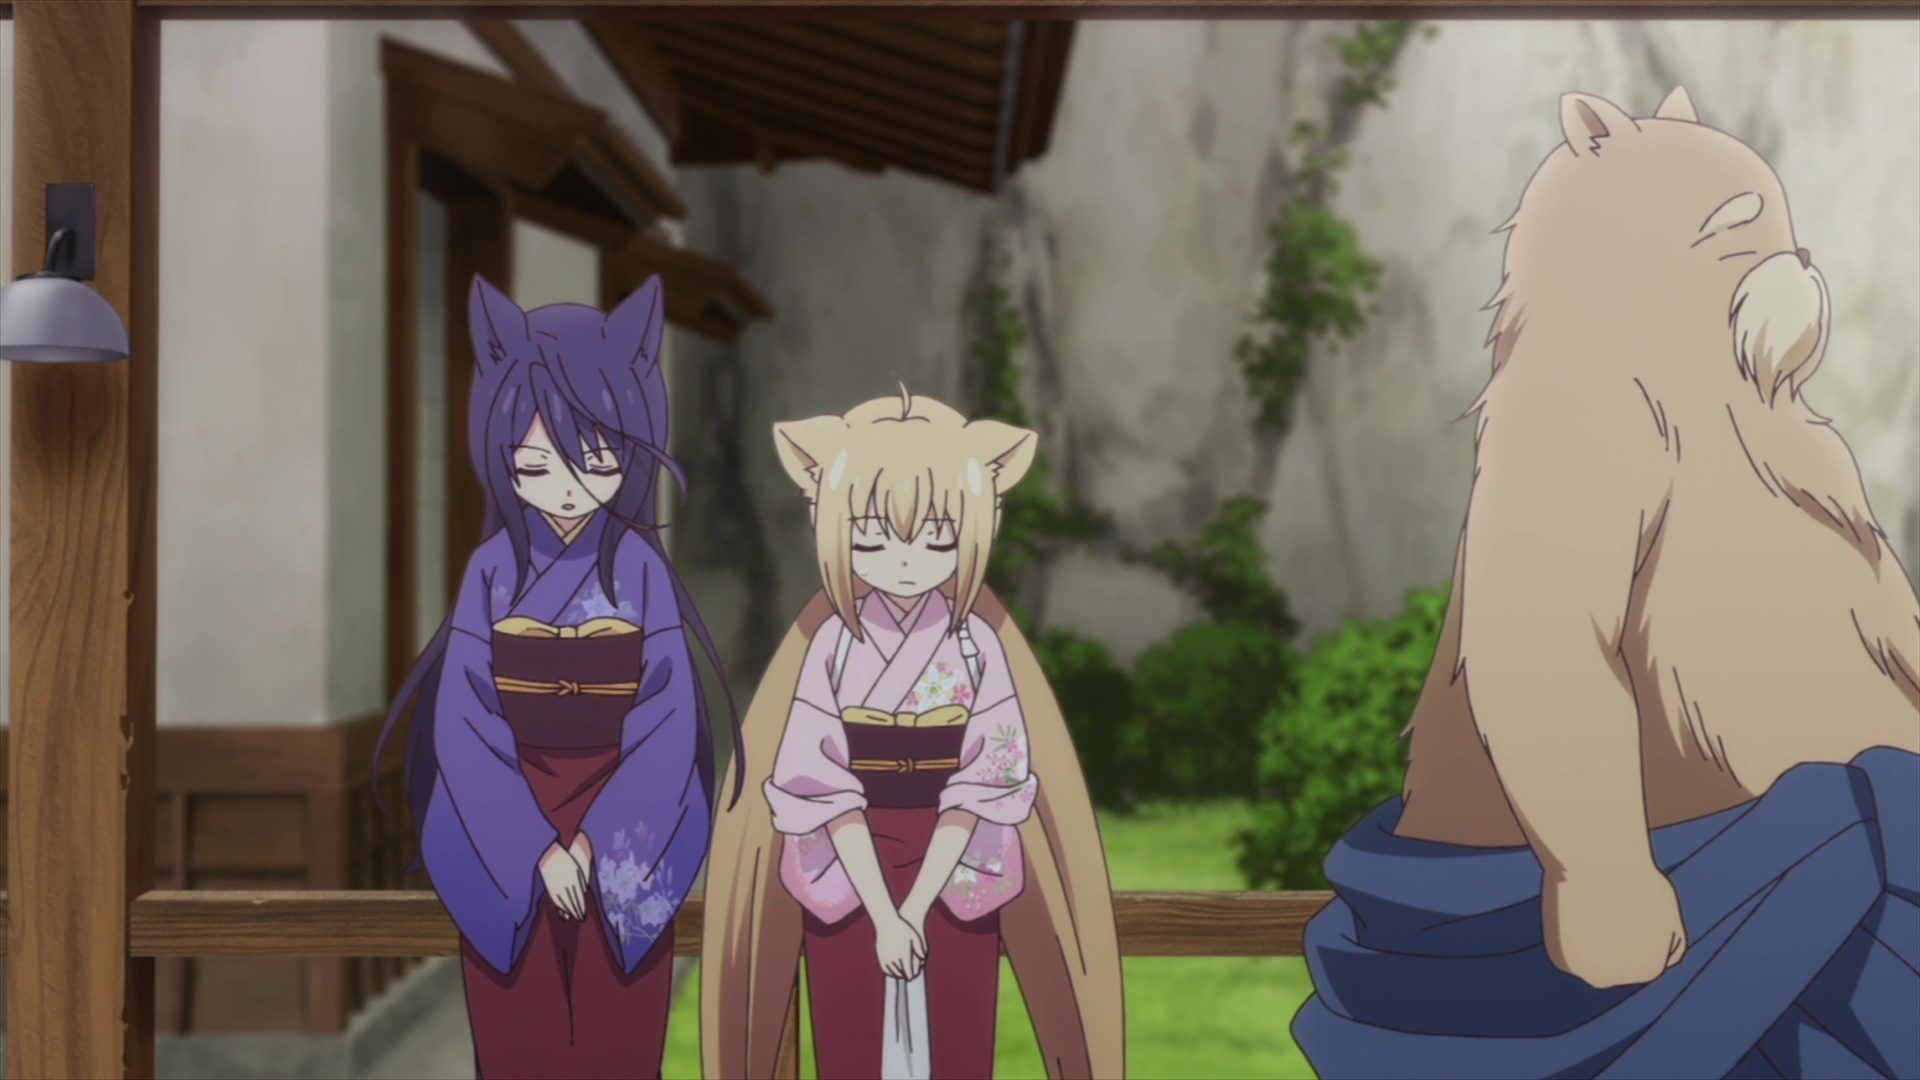柚: (699, 380, 1126, 1080)
皋: (371, 274, 746, 1080)
药店老板: (1291, 83, 1920, 1080)
